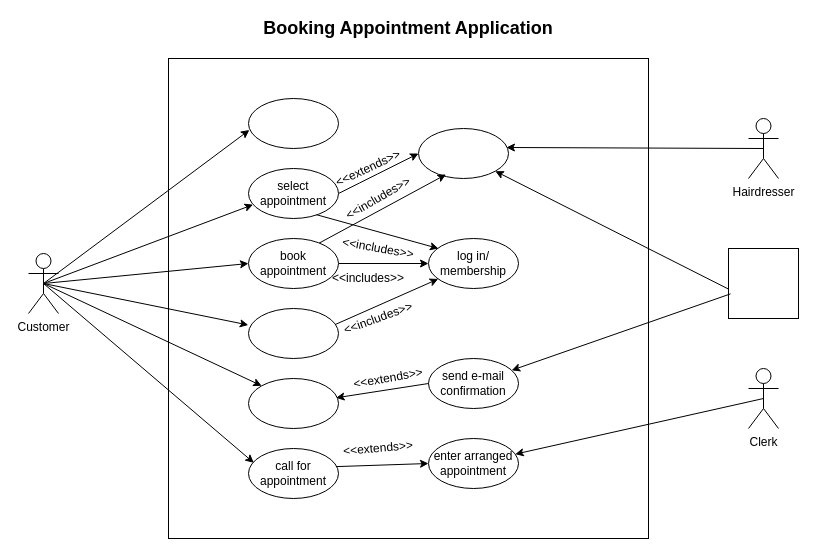
Some shapes in this 816 by 556 pixel diagram are drawn without their labels. The shapes that lost their labels are listed below. From the top down, each one's centre as x and y in pixels, then its label:
At (293,123): "search web page".
At (463,153): "check availability".
At (763,283): "System Application".
At (293,333): "pay online".
At (293,403): "receive e-mail confirmation".
